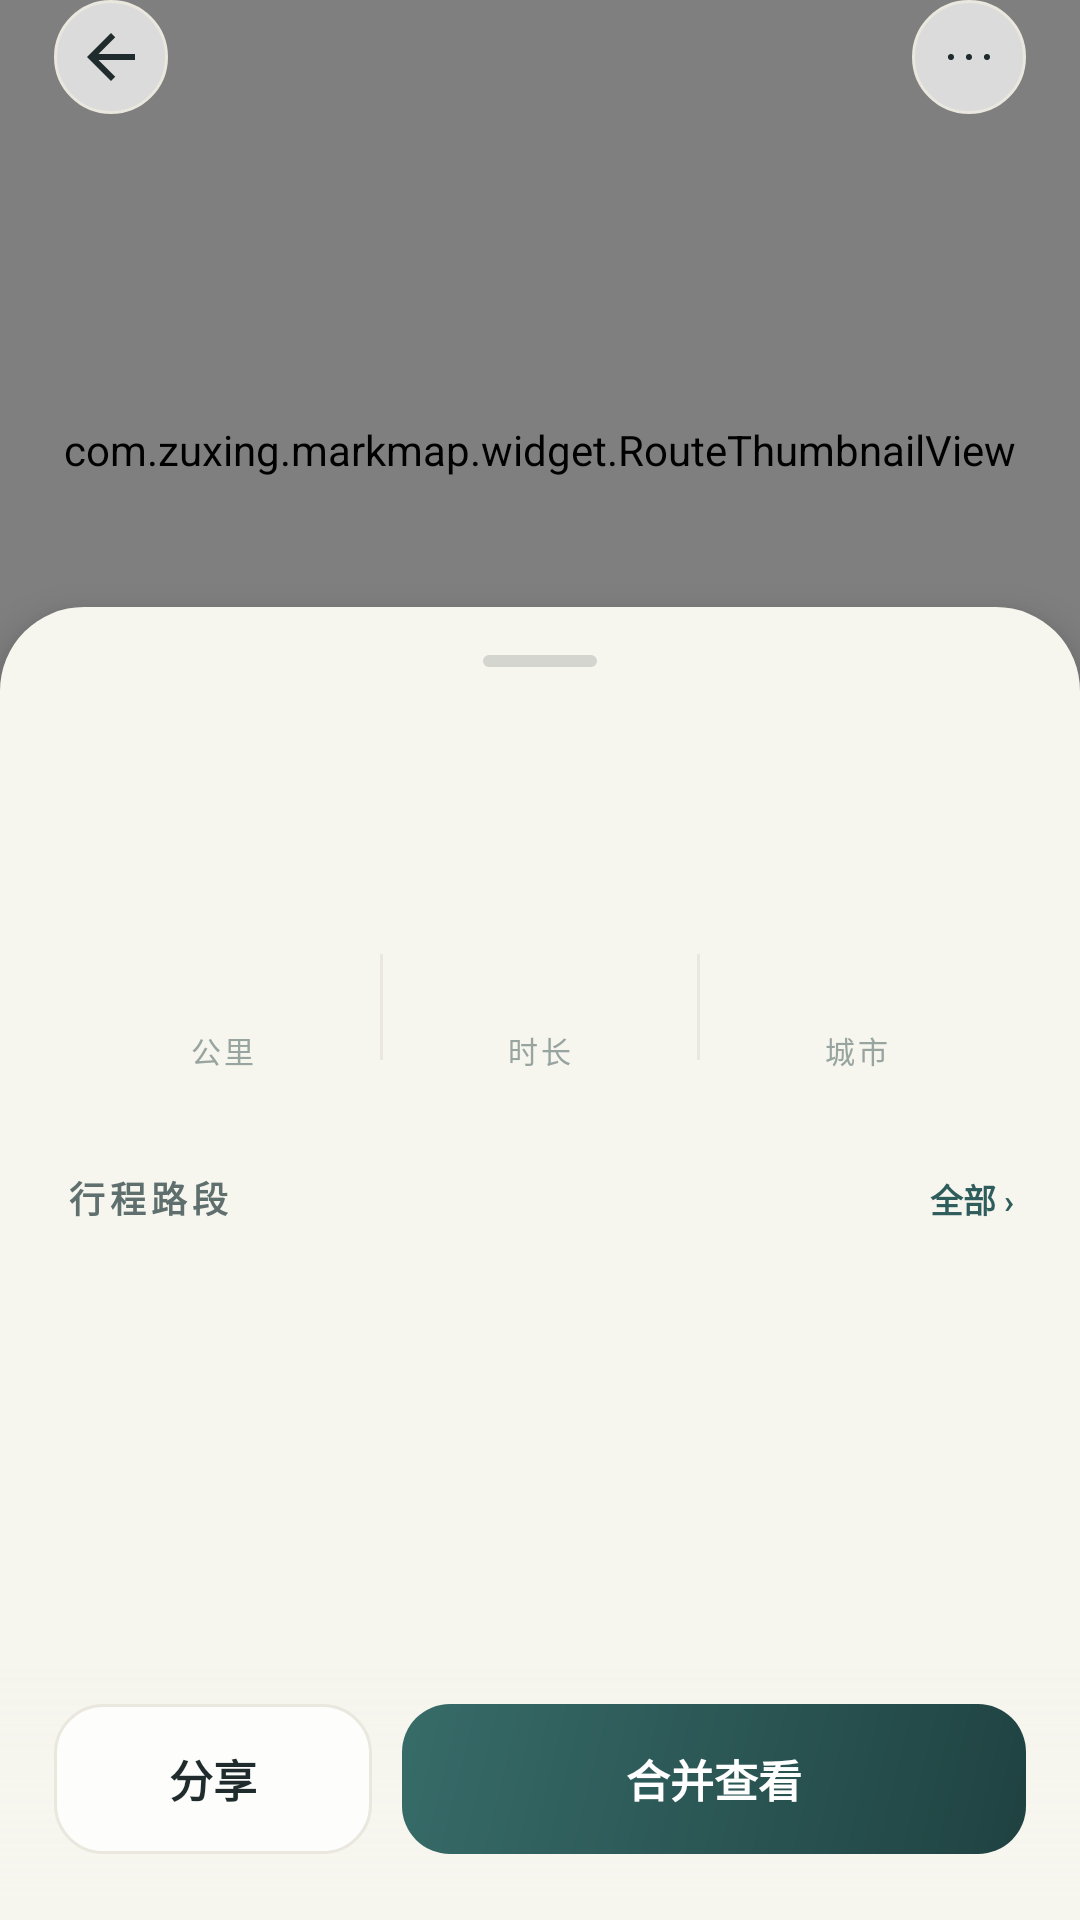

Icon click points for this 1080*1920 phone screenshot, format (x,y):
更多: (969,57)
返回: (111,57)
